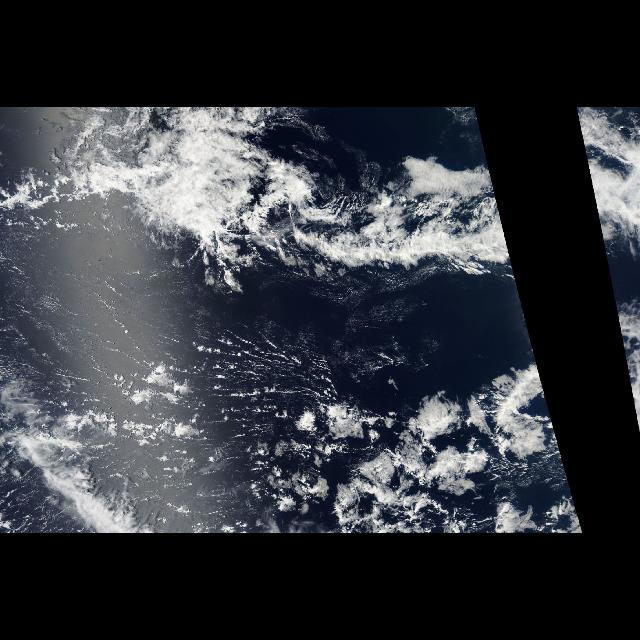Fish: (265, 196, 519, 284)
Flower: (271, 391, 584, 529)
Gravel: (177, 308, 343, 418)
Sugar: (1, 241, 262, 471)
